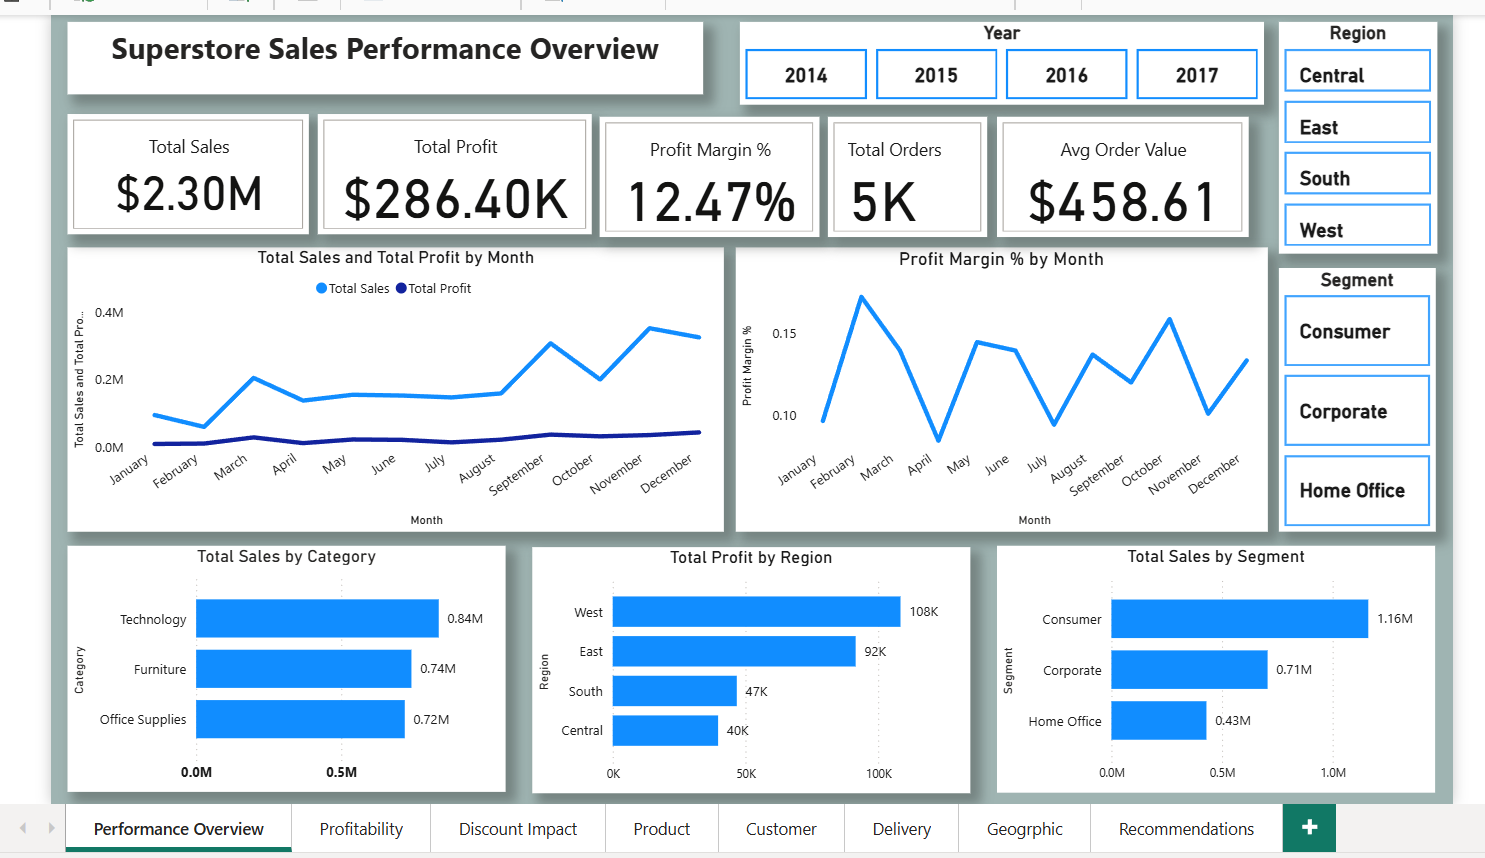

What the dashboard file says about the page in this screenshot:
{"tool":"powerbi","page":{"name":"Performance Overview","canvas":[1280,720],"ordinal":0},"visuals":[{"type":"lineChart","fields":{"Y":["superstore.Total Sales","superstore.Total Profit"],"Category":["DateTable.Date.Variation.Date Hierarchy.Month"]},"box":[15.1,211.8,599.6,259.9],"z":0},{"type":"lineChart","fields":{"Category":["DateTable.Date.Variation.Date Hierarchy.Month"],"Y":["superstore.Profit Margin %"]},"box":[625.8,211.8,485.5,259.9],"z":1000},{"type":"clusteredBarChart","fields":{"Category":["superstore.Category"],"Y":["superstore.Total Sales"]},"box":[15.1,484.1,400,225],"z":2000},{"type":"clusteredBarChart","fields":{"Category":["superstore.Region"],"Y":["superstore.Total Profit"]},"box":[439.4,485.5,400,225],"z":3000},{"type":"advancedSlicerVisual","fields":{"Values":["DateTable.Year"]},"box":[628.5,6.9,478.6,75.6],"z":4000},{"type":"advancedSlicerVisual","fields":{"Values":["superstore.Region"]},"box":[1120.8,6.9,144.4,211.8],"z":5000},{"type":"advancedSlicerVisual","fields":{"Values":["superstore.Segment"]},"box":[1120.8,231,143,240.7],"z":6000},{"type":"clusteredBarChart","fields":{"Y":["superstore.Total Sales"],"Category":["superstore.Segment"]},"box":[863.7,484.1,400.2,225.5],"z":7000},{"type":"cardVisual","fields":{"Data":["superstore.Total Sales"]},"box":[15.1,90.8,220,110],"z":8000},{"type":"cardVisual","fields":{"Data":["superstore.Total Profit"]},"box":[243.1,90.8,250,110],"z":9000},{"type":"cardVisual","fields":{"Data":["superstore.Profit Margin %"]},"box":[501.1,93.5,200.8,110],"z":10000},{"type":"cardVisual","fields":{"Data":["superstore.Total Orders"]},"box":[709.9,93.5,145.8,110],"z":11000},{"type":"cardVisual","fields":{"Data":["superstore.Avg Order Value"]},"box":[863.7,93.5,229.7,110],"z":12000},{"type":"textbox","box":[15.1,6.9,580.4,66],"z":13000}]}

Visuals, with their boxes in screenshot pixels (x1, y1, x2, y2):
lineChart - superstore.Total Sales x superstore.Total Profit: BBox(59, 241, 721, 528)
lineChart - DateTable.Date.Variation.Date Hierarchy.Month x superstore.Profit Margin %: BBox(733, 241, 1269, 528)
clusteredBarChart - superstore.Category x superstore.Total Sales: BBox(59, 542, 501, 790)
clusteredBarChart - superstore.Region x superstore.Total Profit: BBox(527, 544, 969, 792)
advancedSlicerVisual - DateTable.Year: BBox(736, 15, 1264, 99)
advancedSlicerVisual - superstore.Region: BBox(1279, 15, 1439, 249)
advancedSlicerVisual - superstore.Segment: BBox(1279, 263, 1437, 528)
clusteredBarChart - superstore.Total Sales x superstore.Segment: BBox(996, 542, 1437, 791)
cardVisual - superstore.Total Sales: BBox(59, 108, 302, 229)
cardVisual - superstore.Total Profit: BBox(311, 108, 587, 229)
cardVisual - superstore.Profit Margin %: BBox(596, 111, 817, 232)
cardVisual - superstore.Total Orders: BBox(826, 111, 987, 232)
cardVisual - superstore.Avg Order Value: BBox(996, 111, 1249, 232)
textbox: BBox(59, 15, 700, 88)
